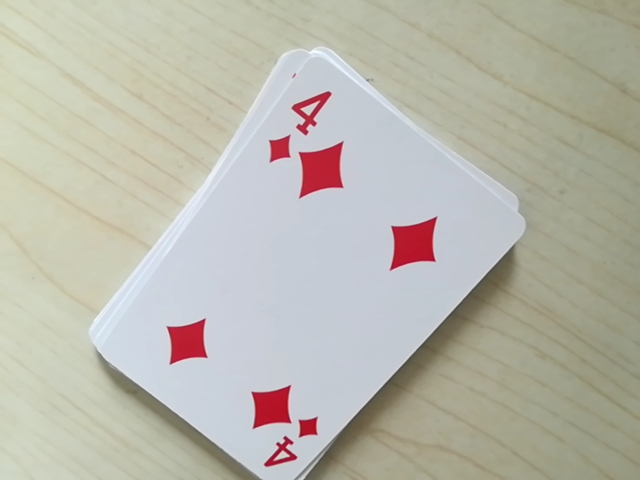fk 4: (260, 72, 333, 177), (256, 417, 318, 479)
